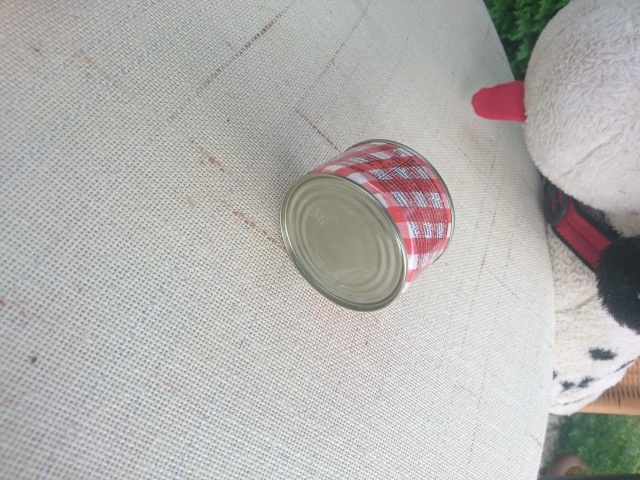Podravka Luncheon Meat 150g: (275, 135, 460, 314)
